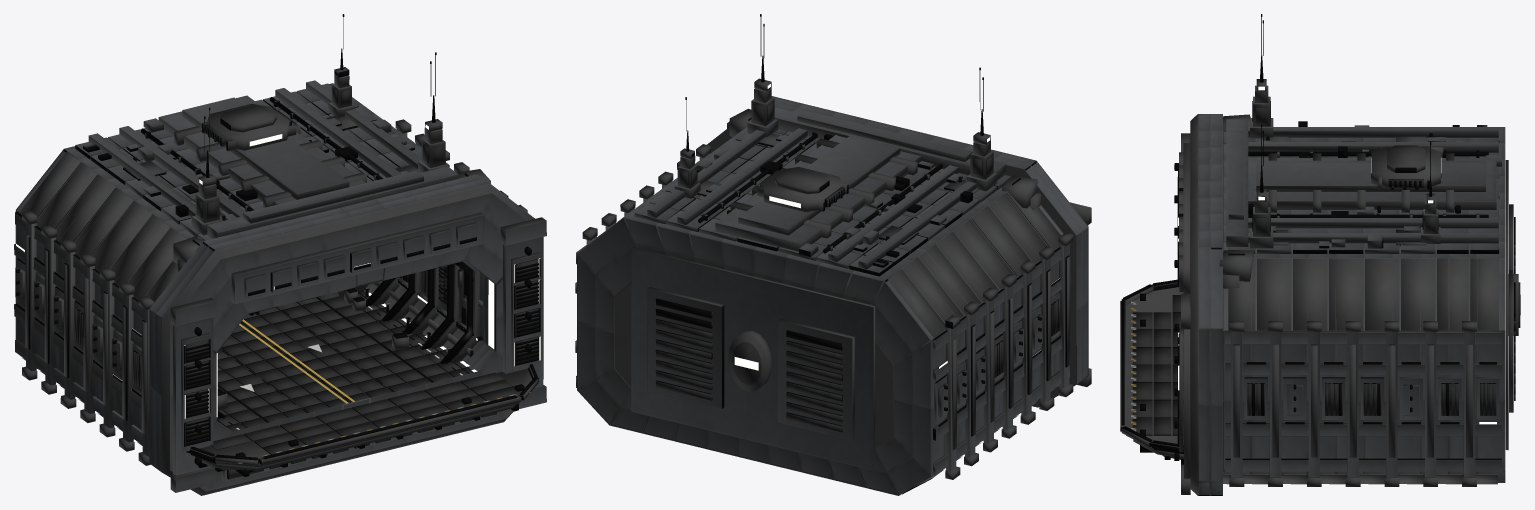
File: CTF_Hangar_Bay.glb
3 renders of one model, left to right at view 1: azimuth 30°, elevation 25°; view 2: azimuth 150°, elevation 25°; view 3: azimuth 270°, elevation 25°, orthographic. The views are drawn at different scales.
Visible parts, largest first — view 1: HANGAR_BAKE; view 2: HANGAR_BAKE; view 3: HANGAR_BAKE.
Boxes of the visible parts, <box> form: HANGAR_BAKE: <box>14,14,546,495</box>; HANGAR_BAKE: <box>575,14,1091,495</box>; HANGAR_BAKE: <box>1120,14,1520,495</box>.
Size of the model in its own units: 22 by 19.54 by 20.01.
Materials: 1 (1 with a texture image).
